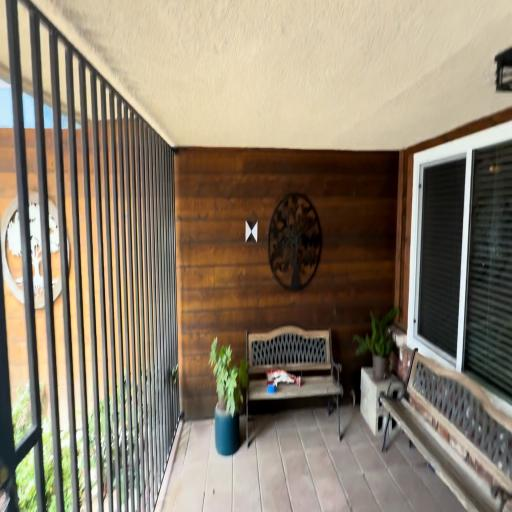target: (246, 221, 257, 242)
